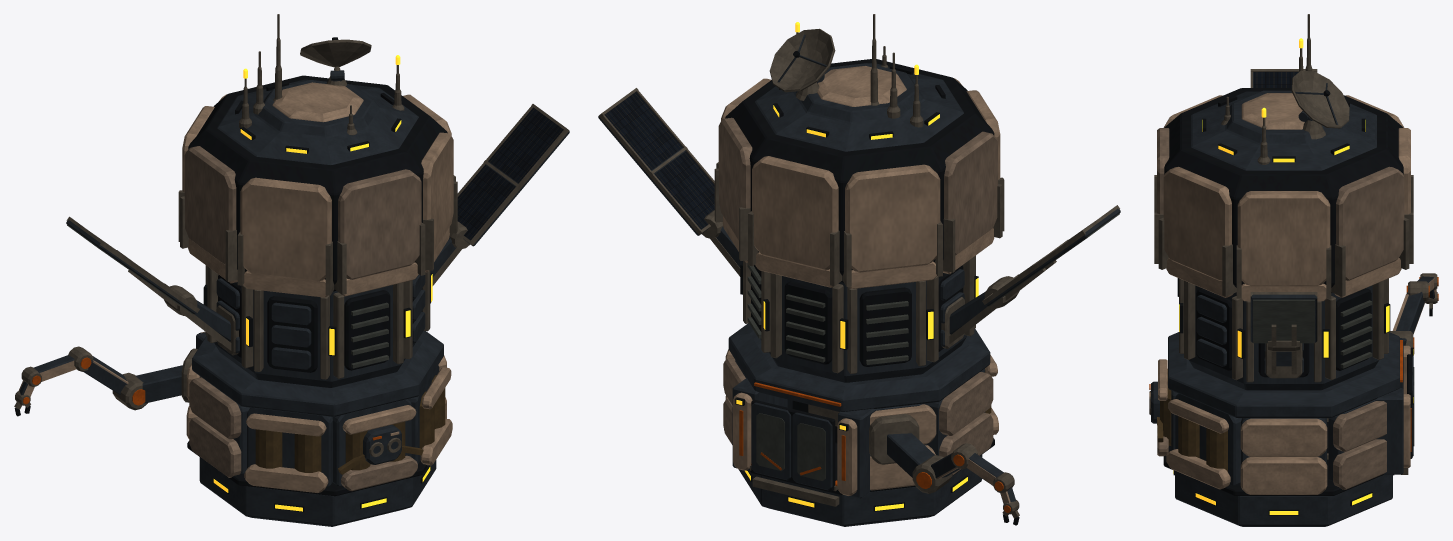
File: replication-r4-lod1.glb
3 views of the same model, side by side, from view 1: azimuth 30°, elevation 25°; view 2: azimuth 150°, elevation 25°; view 3: azimuth 270°, elevation 25° (orthographic). The views are drawn at different scales.
Parts seen in each view (by area): view 1: Station ceramic and hardware trim 1, Fused silica over photovoltaic cells 1, Amber indicators.001; view 2: Station ceramic and hardware trim 1, Fused silica over photovoltaic cells 1, Amber indicators.001; view 3: Station ceramic and hardware trim 1, Amber indicators.001, Fused silica over photovoltaic cells 1.
Boxes of the visible parts, <box> form: Station ceramic and hardware trim 1: <box>14,14,569,526</box>; Fused silica over photovoltaic cells 1: <box>457,107,563,240</box>; Amber indicators.001: <box>213,120,432,511</box>; Station ceramic and hardware trim 1: <box>598,14,1120,526</box>; Fused silica over photovoltaic cells 1: <box>604,92,714,229</box>; Amber indicators.001: <box>736,105,978,510</box>; Station ceramic and hardware trim 1: <box>1149,14,1438,526</box>; Amber indicators.001: <box>1173,120,1413,514</box>; Fused silica over photovoltaic cells 1: <box>1253,72,1298,87</box>.
Bounding box in the file's own units: 75.35 × 71 × 40.65.
Materials: 4 (2 with a texture image).
